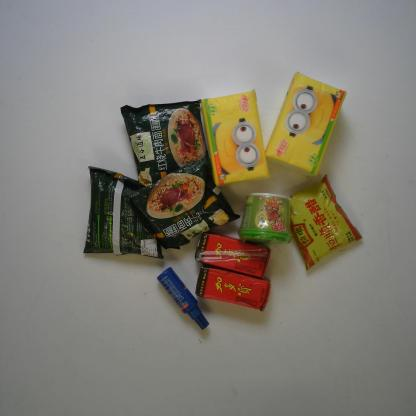Drink: (196, 230, 273, 276), (197, 265, 270, 311)
Instant Drink: (241, 191, 295, 244)
Instant Noodles: (128, 155, 240, 250), (119, 98, 215, 191), (82, 163, 166, 260)
Personal Hygiene: (156, 265, 210, 329)
Seasoner: (286, 172, 362, 273)
Tissue: (266, 70, 348, 178), (199, 88, 273, 186)
